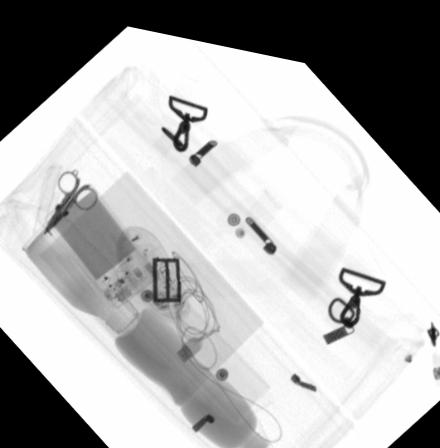Powerbank: (42, 176, 166, 306)
Scissors: (39, 166, 97, 234)
